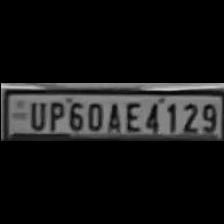0: (83, 99, 103, 131)
1: (160, 100, 178, 132)
2: (178, 99, 198, 133)
4: (142, 100, 162, 132)
6: (65, 99, 83, 131)
9: (198, 99, 216, 133)
A: (104, 99, 120, 131)
E: (121, 100, 141, 132)
P: (45, 98, 63, 132)
U: (23, 99, 45, 130)
